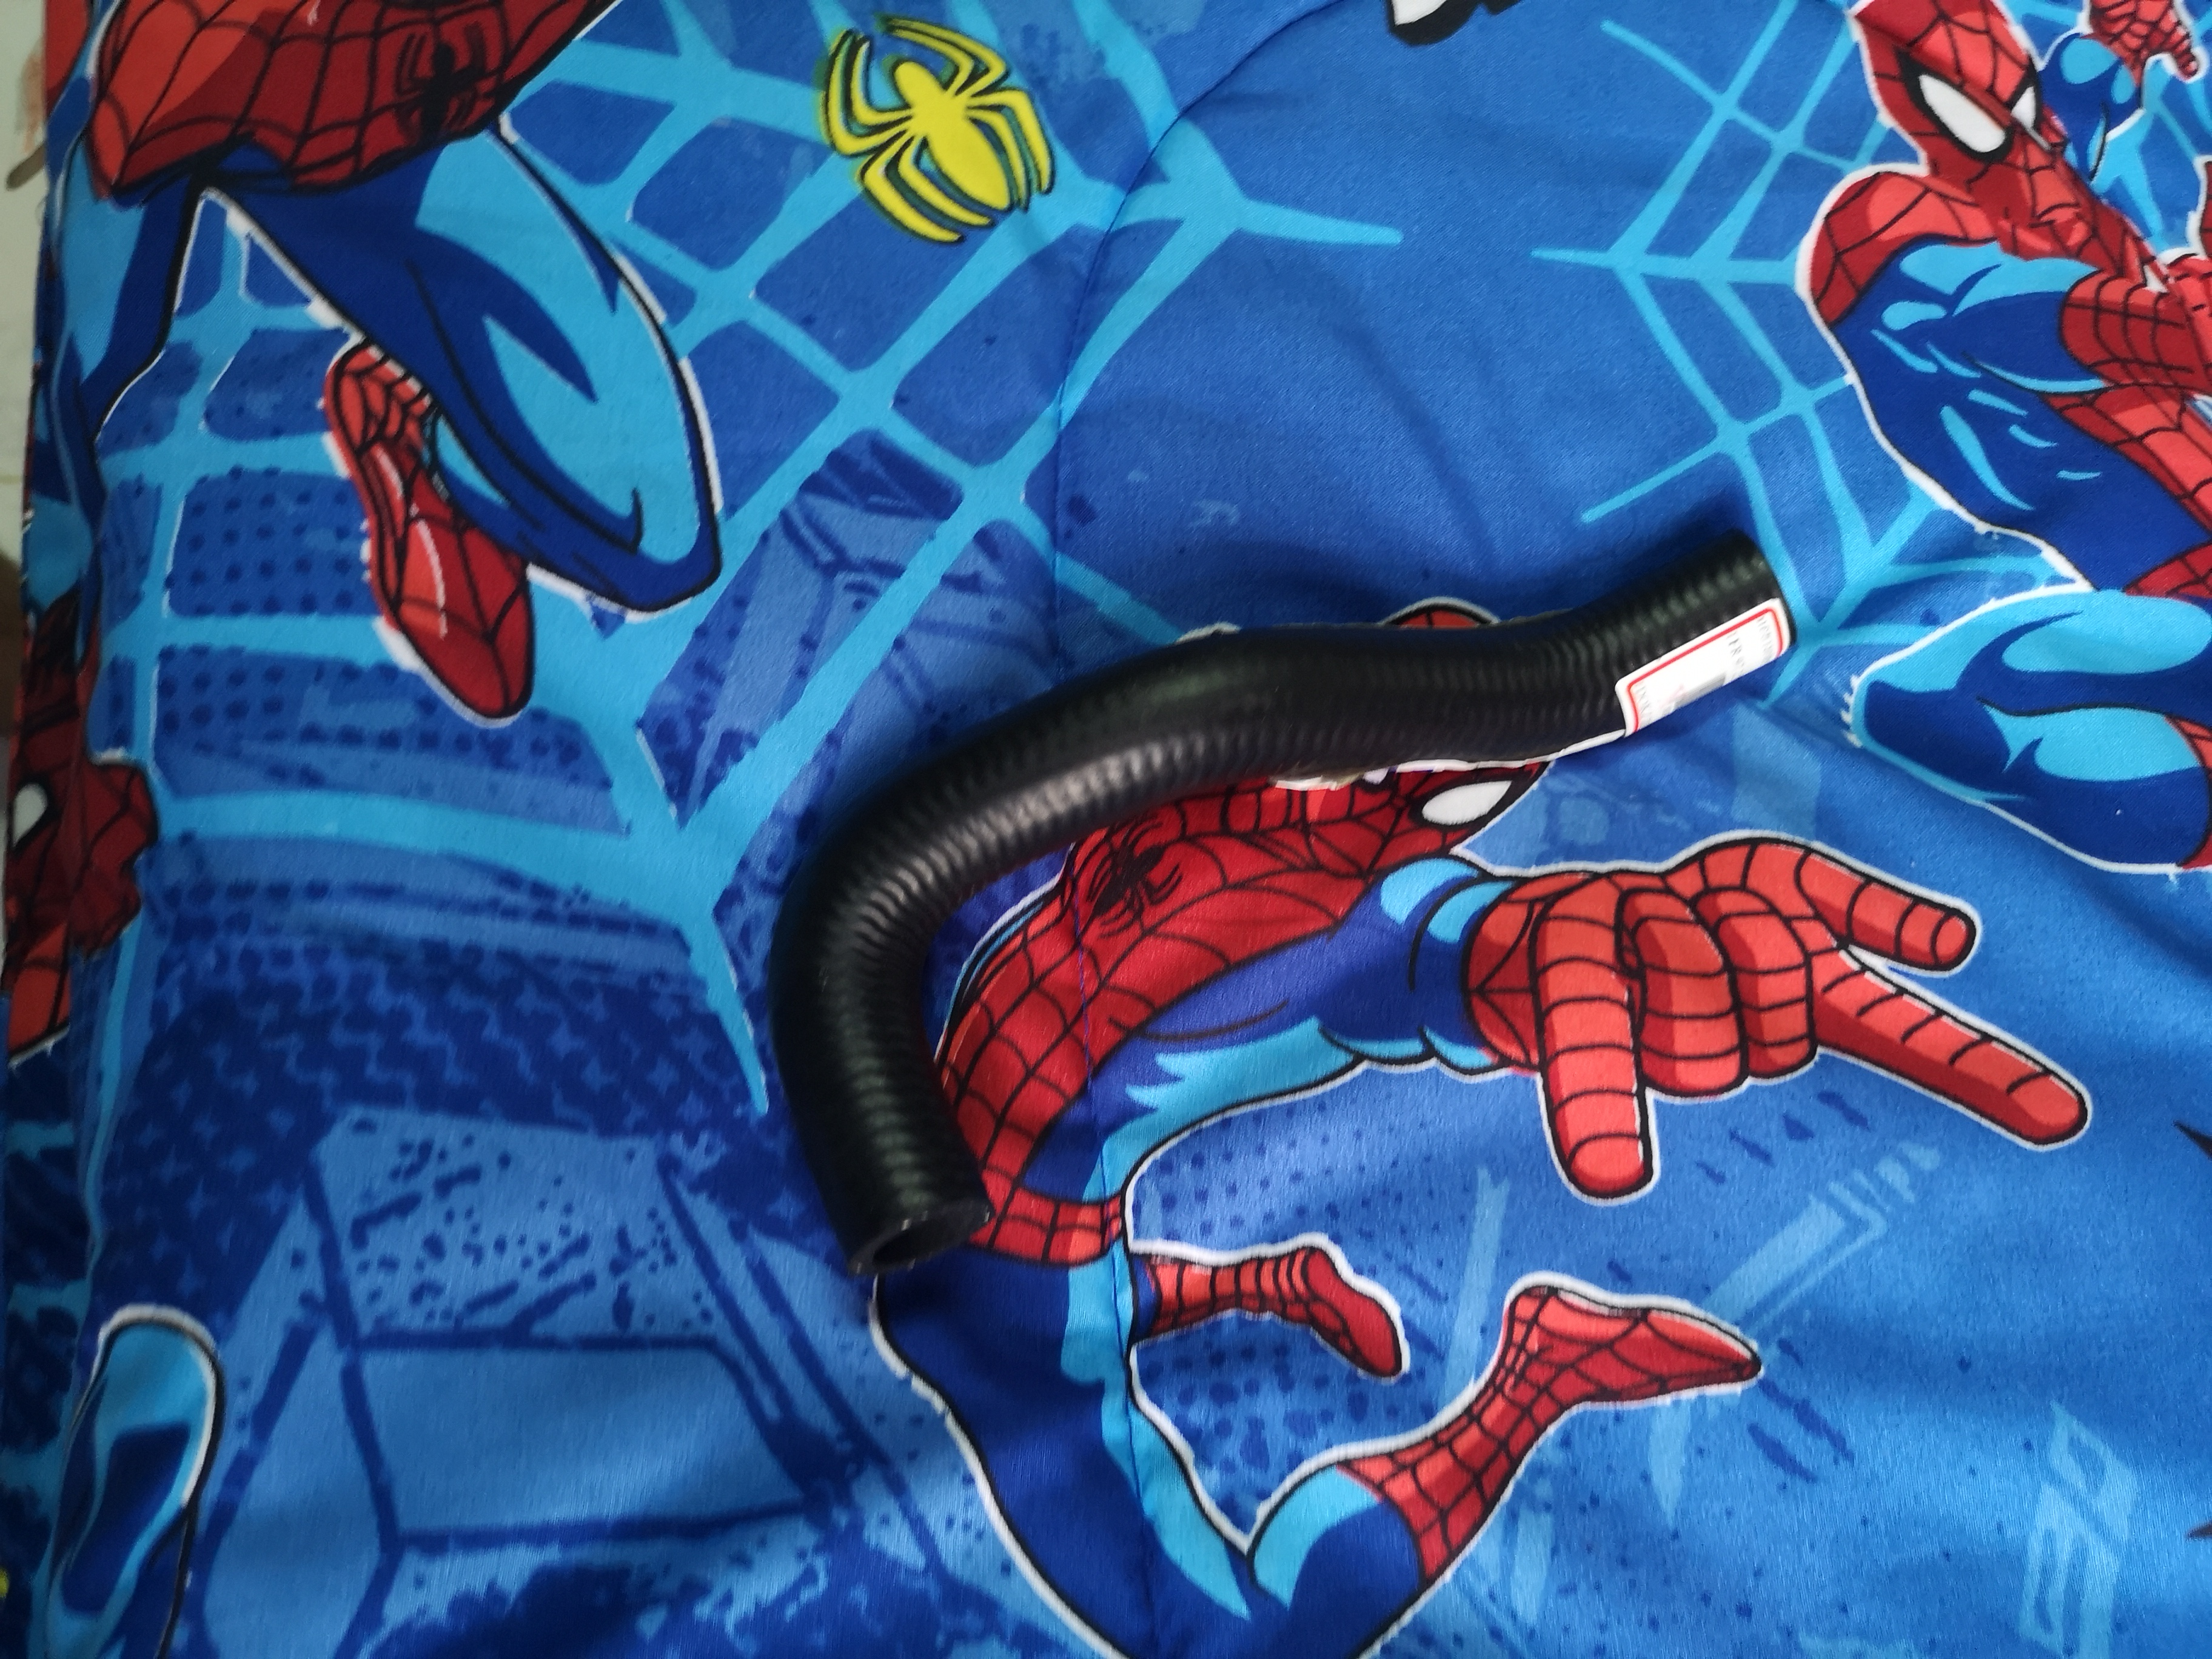ท่อยางน้ำมันเลี้ยงเทอร์โบ: (667, 416, 1804, 1290)
